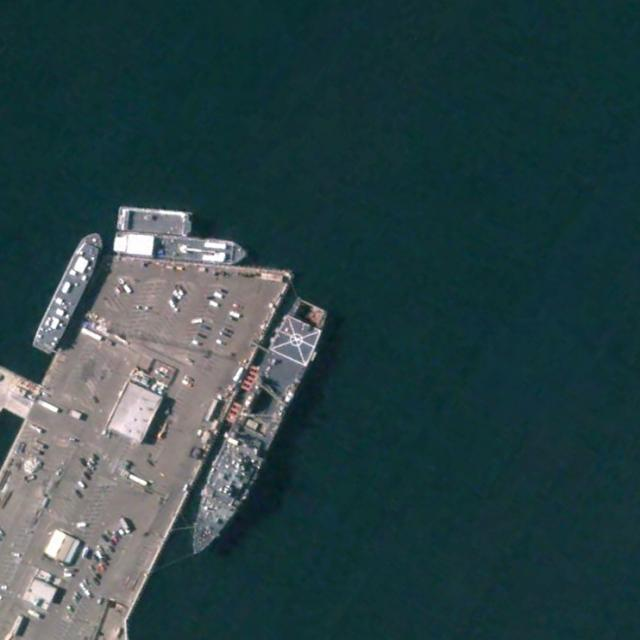Other Ship: (173, 292, 332, 566), (28, 226, 110, 356), (113, 228, 248, 266)
